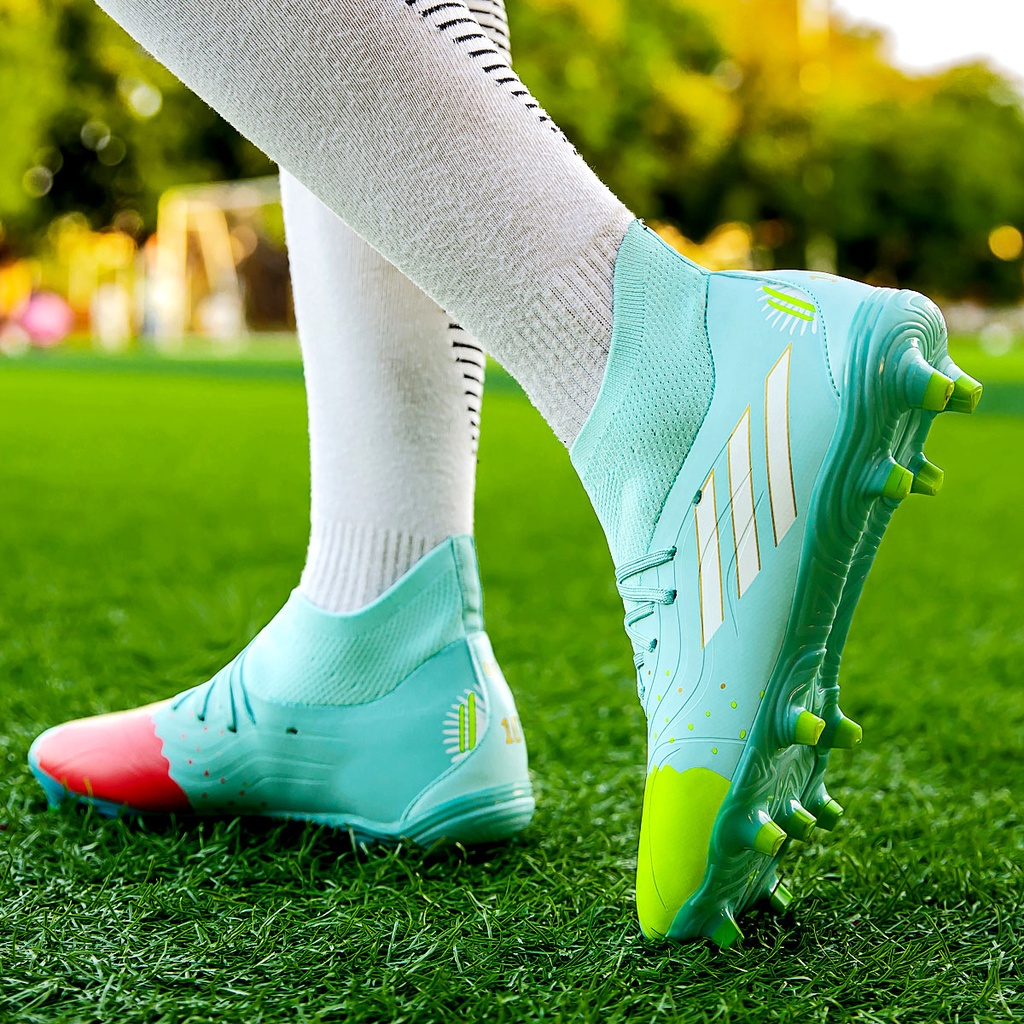soccer shoes: (564, 222, 982, 948), (24, 533, 537, 853)
